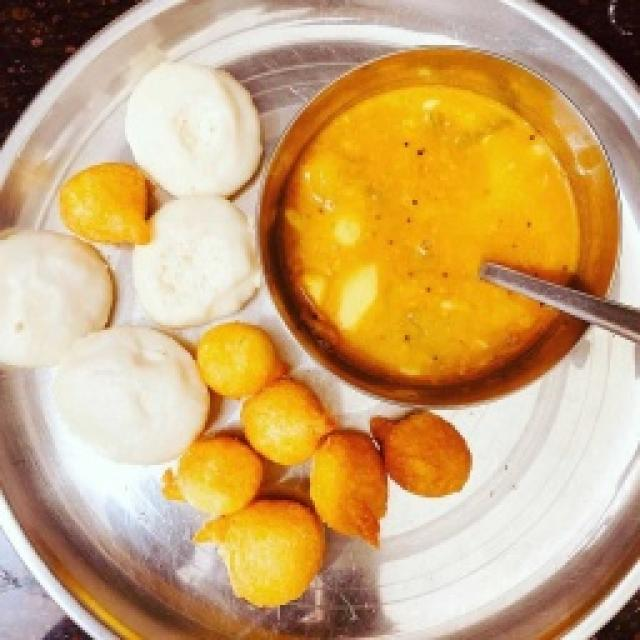idli: (5, 238, 202, 455), (155, 76, 260, 302)
